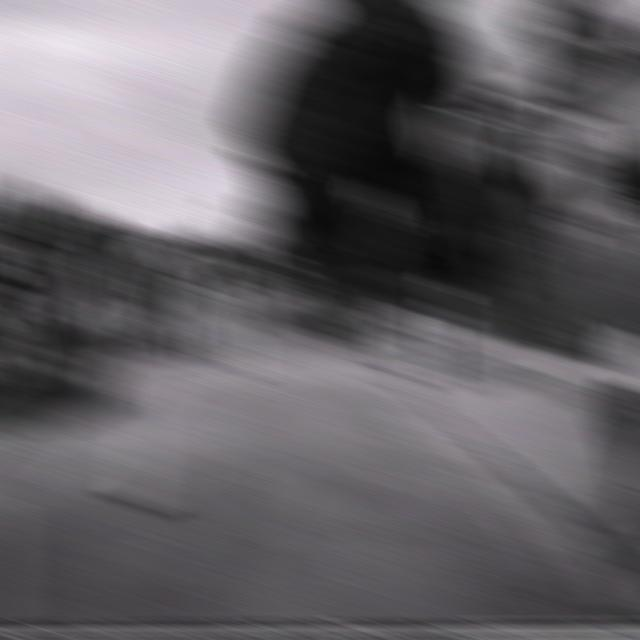pedestrianCrossing: (354, 180, 393, 222)
